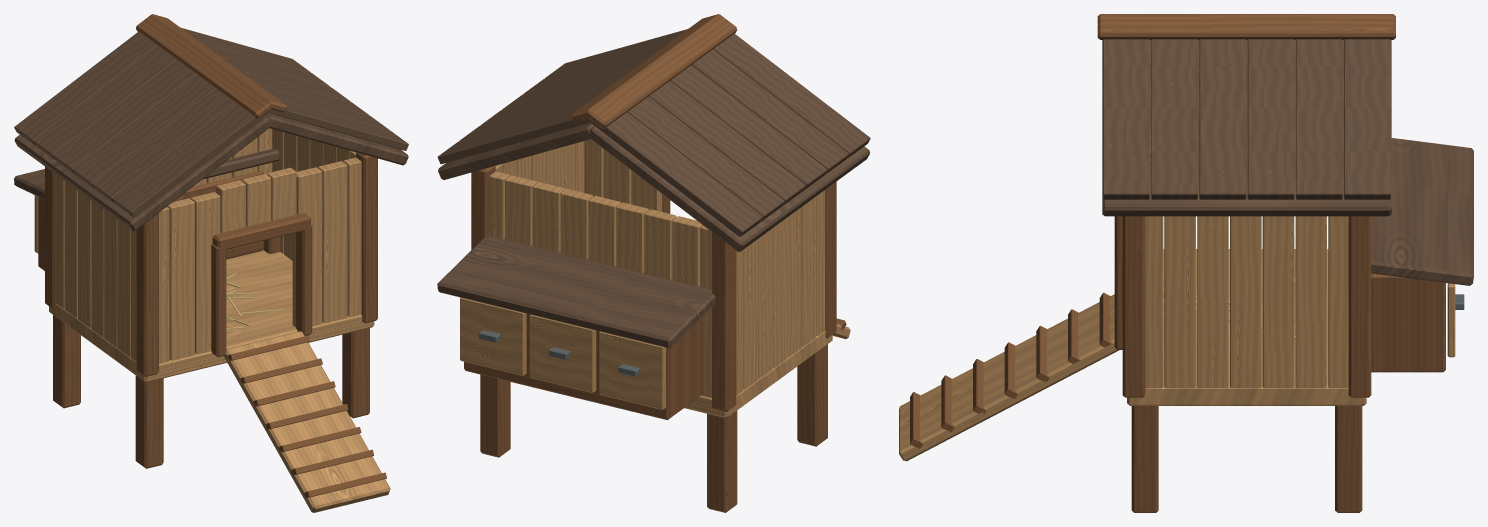
File: Coop.fbx
The picture shows the model from 3 angles, left to right: view 1: azimuth 30°, elevation 25°; view 2: azimuth 150°, elevation 25°; view 3: azimuth 270°, elevation 25°; orthographic projection. The views are drawn at different scales.
Parts seen in each view (by area): view 1: Coop_LOD0; view 2: Coop_LOD0; view 3: Coop_LOD0.
Part boxes in pixels (left/top/right/bottom): Coop_LOD0: left=14, top=14, right=408, bottom=512; Coop_LOD0: left=437, top=14, right=870, bottom=512; Coop_LOD0: left=899, top=14, right=1473, bottom=512.
Size of what is drawn, in the model's own units: 175 by 211 by 254.
Materials: 5 (3 with a texture image).
